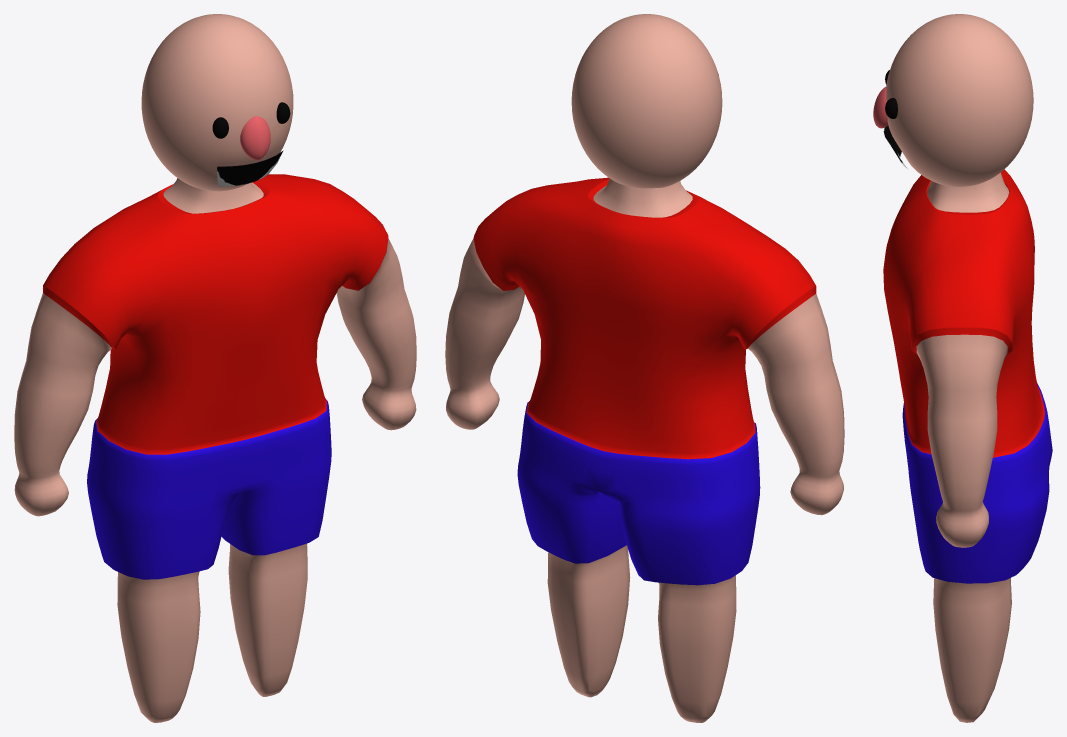
File: Character_02.fbx
The picture shows the model from 3 angles, left to right: view 1: azimuth 30°, elevation 25°; view 2: azimuth 150°, elevation 25°; view 3: azimuth 270°, elevation 25°; orthographic projection. The views are drawn at different scales.
Parts seen in each view (by area): view 1: Cube.002; view 2: Cube.002; view 3: Cube.002.
Boxes of the visible parts, left/top/right/bottom form: Cube.002: left=14, top=14, right=416, bottom=722; Cube.002: left=445, top=14, right=844, bottom=722; Cube.002: left=873, top=14, right=1052, bottom=722.
Bounding box in the file's own units: 172 × 289 × 69.72.
